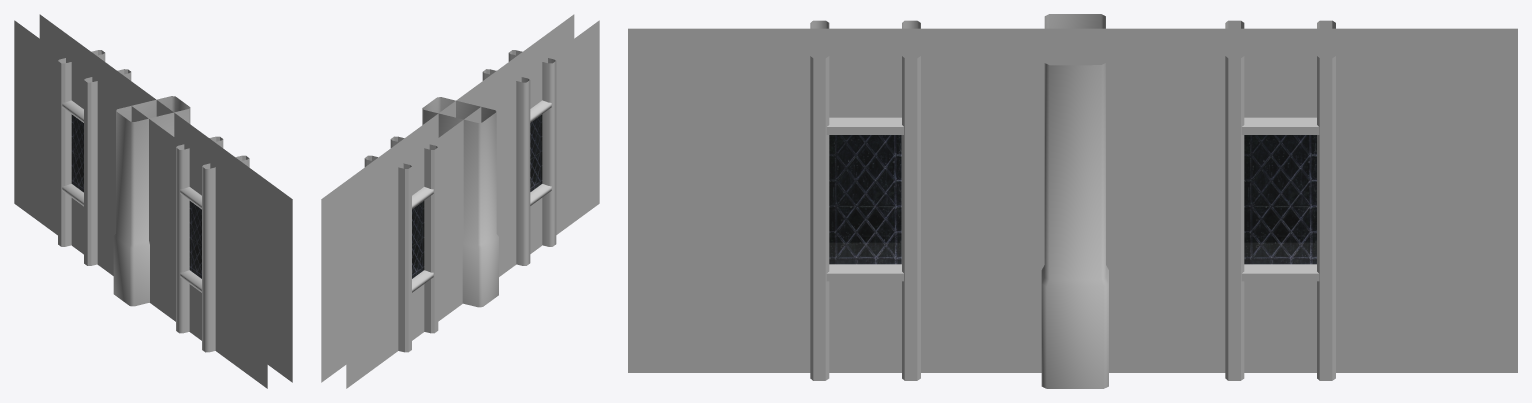
File: House_01_Rear_02.FBX
3 renders of one model, left to right at view 1: azimuth 30°, elevation 25°; view 2: azimuth 150°, elevation 25°; view 3: azimuth 270°, elevation 25°, orthographic. The views are drawn at different scales.
Parts seen in each view (by area): view 1: House_01_Rear_02; view 2: House_01_Rear_02; view 3: House_01_Rear_02.
Part boxes in pixels (box(x1,y1,x2,y2)): House_01_Rear_02: box(14, 14, 292, 388); House_01_Rear_02: box(321, 14, 599, 388); House_01_Rear_02: box(628, 14, 1517, 388).
Size of the model in its own units: 34.36 by 96.12 by 240.
